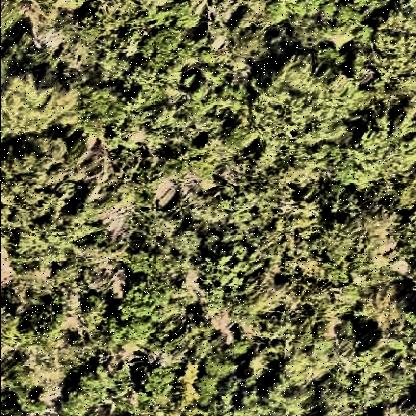tree-top: (251, 58, 360, 170), (2, 134, 90, 272), (191, 227, 270, 317), (99, 278, 177, 351), (1, 76, 79, 138), (356, 113, 416, 187), (356, 337, 414, 413), (375, 1, 416, 99), (294, 1, 368, 50), (14, 299, 65, 359), (56, 367, 118, 416), (73, 85, 125, 134)
